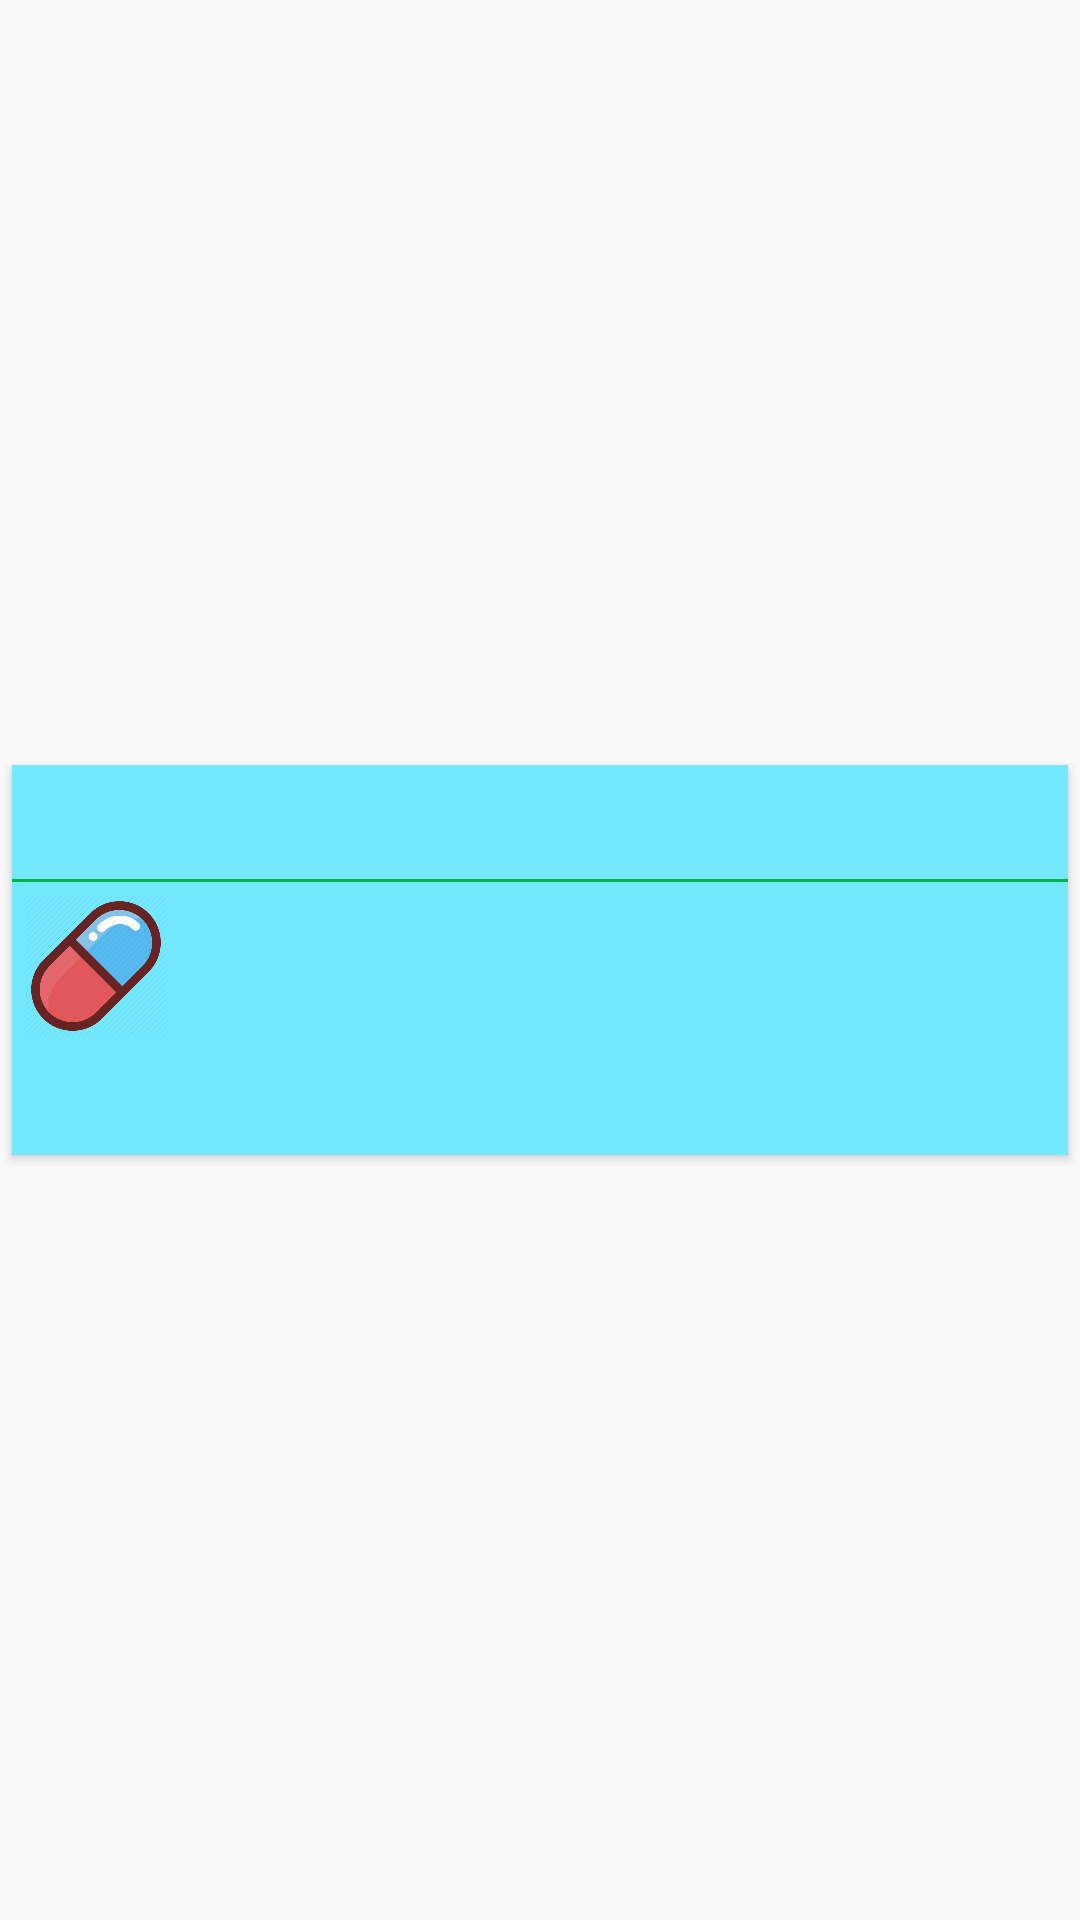

Named icons in this screenshot (1080x1920) and their bounding boxes, {"x1": x1, "y1": y1, "x2": x2, "y2": y2}:
pill: {"x1": 31, "y1": 901, "x2": 161, "y2": 1031}
